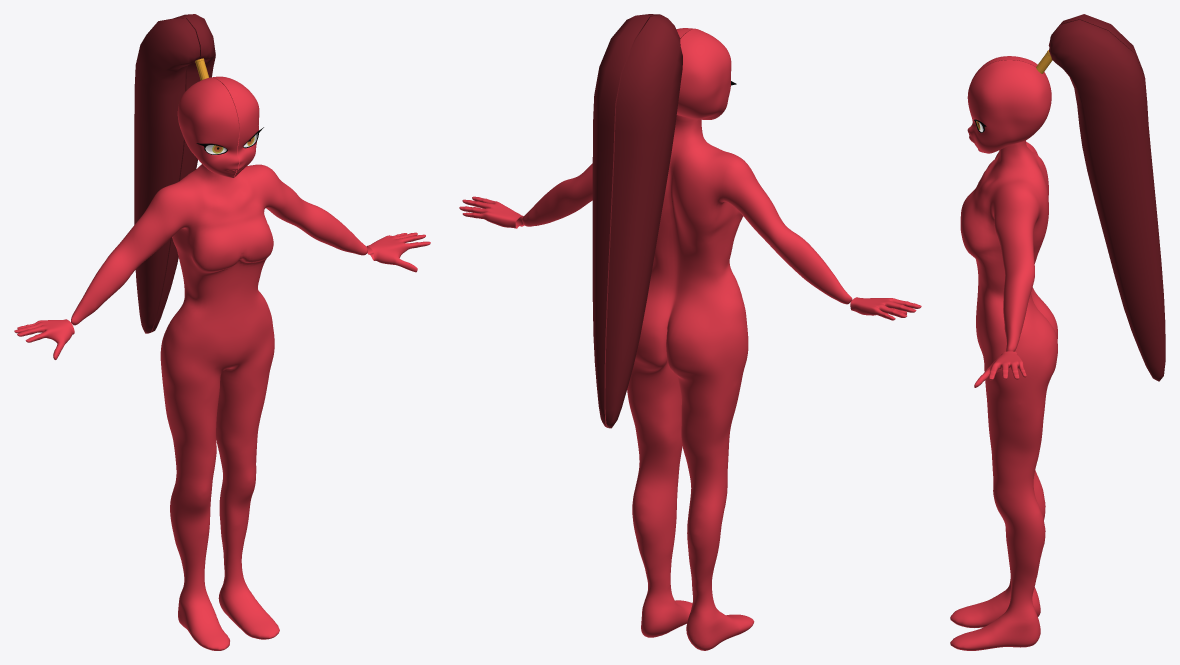
The model's file is RedQueen_Export_V09.fbx.
3 renders of one model, left to right at view 1: azimuth 30°, elevation 25°; view 2: azimuth 150°, elevation 25°; view 3: azimuth 270°, elevation 25°, orthographic. The views are drawn at different scales.
Visible parts, largest first — view 1: torso, Ponytail.001, head, Cube.007; view 2: torso, Ponytail.001, head, Cube.007; view 3: torso, Ponytail.001, head, Cube.007.
Boxes of the visible parts, x1,y1,x2,y2 form: torso: [71, 164, 367, 650]; Ponytail.001: [134, 14, 215, 333]; head: [177, 76, 259, 177]; Cube.007: [14, 232, 430, 359]; torso: [522, 115, 852, 650]; Ponytail.001: [592, 14, 682, 428]; head: [676, 28, 731, 119]; Cube.007: [459, 196, 921, 320]; torso: [950, 140, 1057, 650]; Ponytail.001: [1048, 14, 1165, 381]; head: [967, 56, 1051, 153]; Cube.007: [974, 351, 1026, 387].
Size of the model in its own units: 1386 by 1897 by 601.
